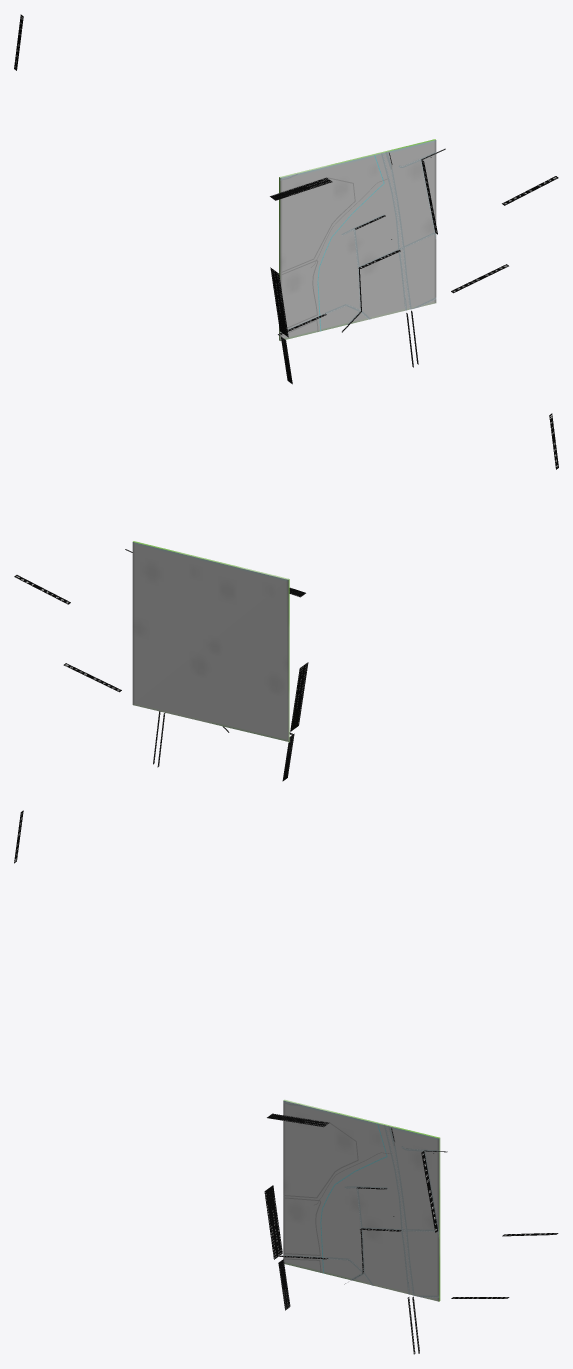
Rendered from stamford14.gltf.
3 views of the same model, one above another, from view 1: azimuth 30°, elevation 25°; view 2: azimuth 150°, elevation 25°; view 3: azimuth 330°, elevation 25° (orthographic).
Parts seen in each view (by area): view 1: POLYGON, FONT, POLYLINE; view 2: POLYGON, FONT; view 3: POLYGON, POLYLINE, FONT.
Part boxes in pixels (bbox=[...]): POLYGON: bbox=[279, 139, 436, 340]; FONT: bbox=[14, 14, 558, 384]; POLYLINE: bbox=[280, 151, 436, 340]; POLYGON: bbox=[132, 541, 289, 742]; FONT: bbox=[14, 413, 558, 781]; POLYGON: bbox=[283, 1099, 440, 1301]; POLYLINE: bbox=[283, 1102, 439, 1297]; FONT: bbox=[14, 810, 558, 1354].
Bounding box in the file's own units: 2123 × 1677 × 68.17.
3 materials, 3 textured.
